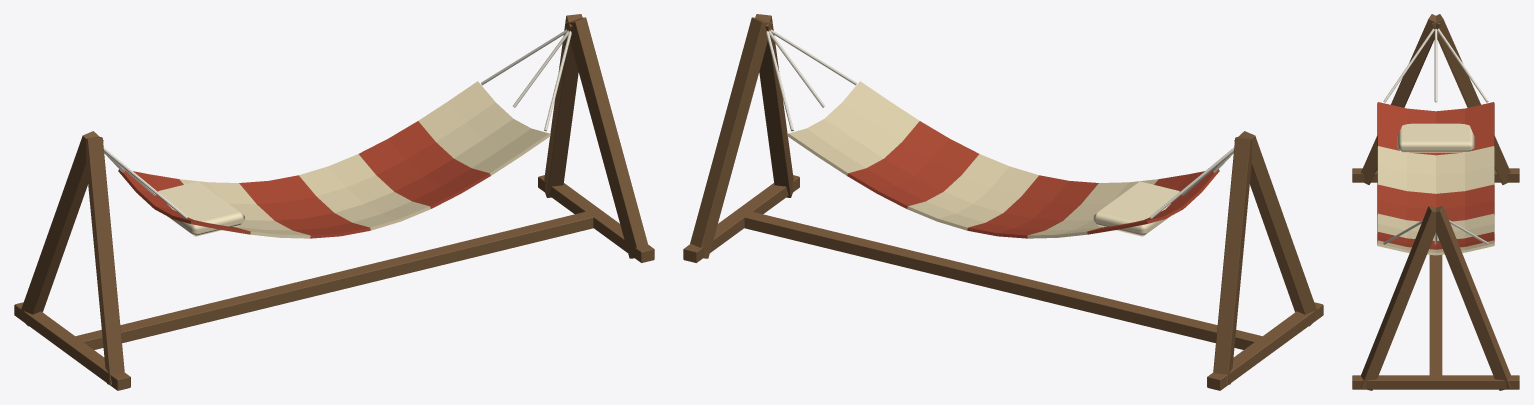
Rendered from Hammock.glb.
3 renders of one model, left to right at view 1: azimuth 30°, elevation 25°; view 2: azimuth 150°, elevation 25°; view 3: azimuth 270°, elevation 25°, orthographic. The views are drawn at different scales.
Parts seen in each view (by area): view 1: Hammock.001; view 2: Hammock.001; view 3: Hammock.001.
Part boxes in pixels (bbox=[...]): Hammock.001: bbox=[14, 14, 654, 390]; Hammock.001: bbox=[683, 14, 1323, 390]; Hammock.001: bbox=[1352, 14, 1519, 390].
Size of the model in its own units: 3.92 by 1.48 by 1.3.
